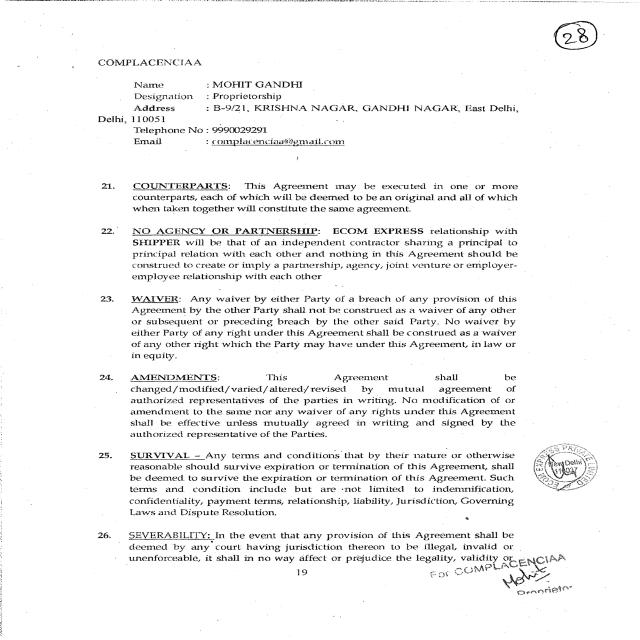page-number: (389, 0, 640, 74)
